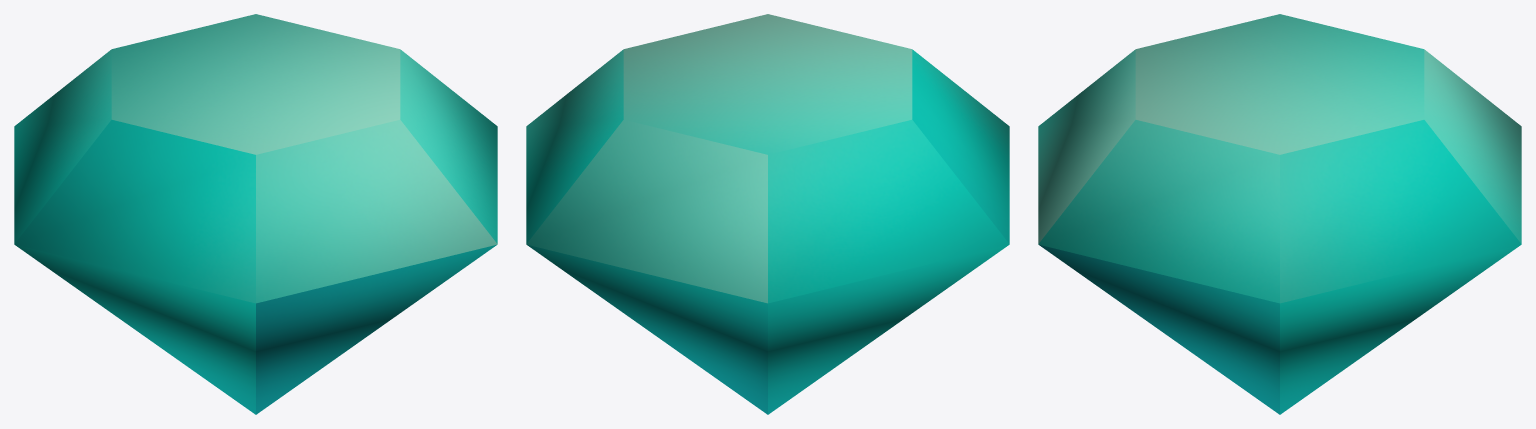
File: Diamond.fbx
The picture shows the model from 3 angles, left to right: view 1: azimuth 30°, elevation 25°; view 2: azimuth 150°, elevation 25°; view 3: azimuth 270°, elevation 25°; orthographic projection.
Visible parts, largest first — view 1: Gem-Diamond; view 2: Gem-Diamond; view 3: Gem-Diamond.
Boxes of the visible parts, x1,y1,x2,y2 form: Gem-Diamond: (14,14,497,414); Gem-Diamond: (526,14,1009,414); Gem-Diamond: (1038,14,1521,414).
Bounding box in the file's own units: 2.19 × 1.43 × 1.9.
